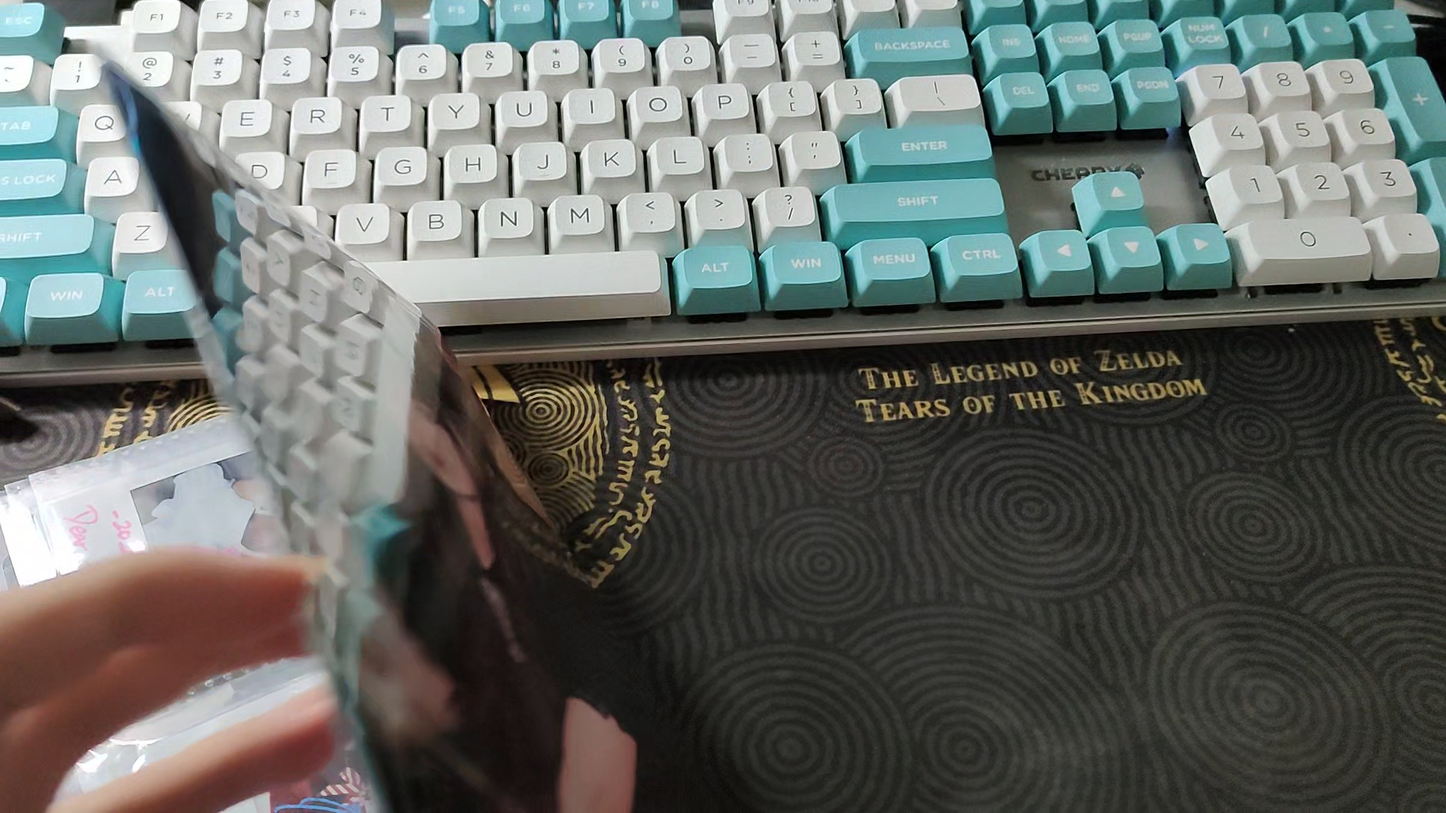Photo_book: (0, 33, 648, 813)
